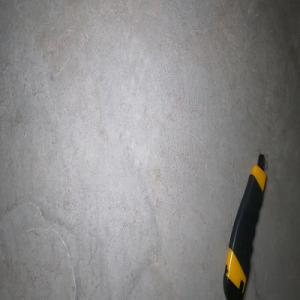Cutter: (222, 149, 267, 300)
